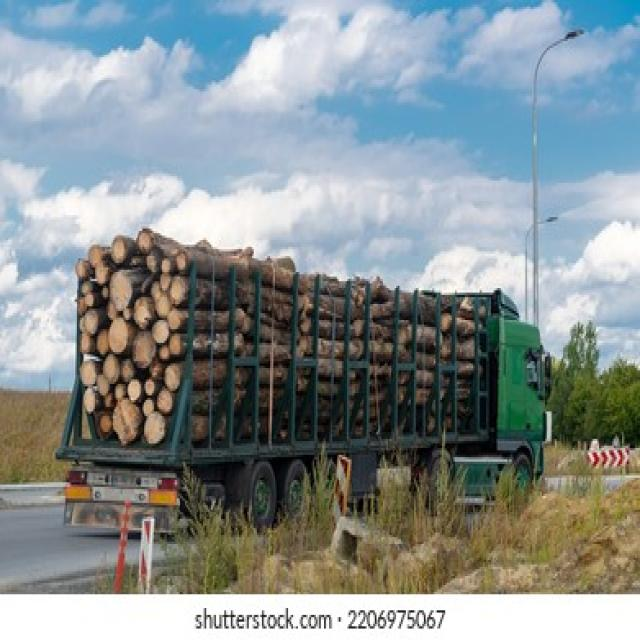Truck: (57, 224, 550, 548)
